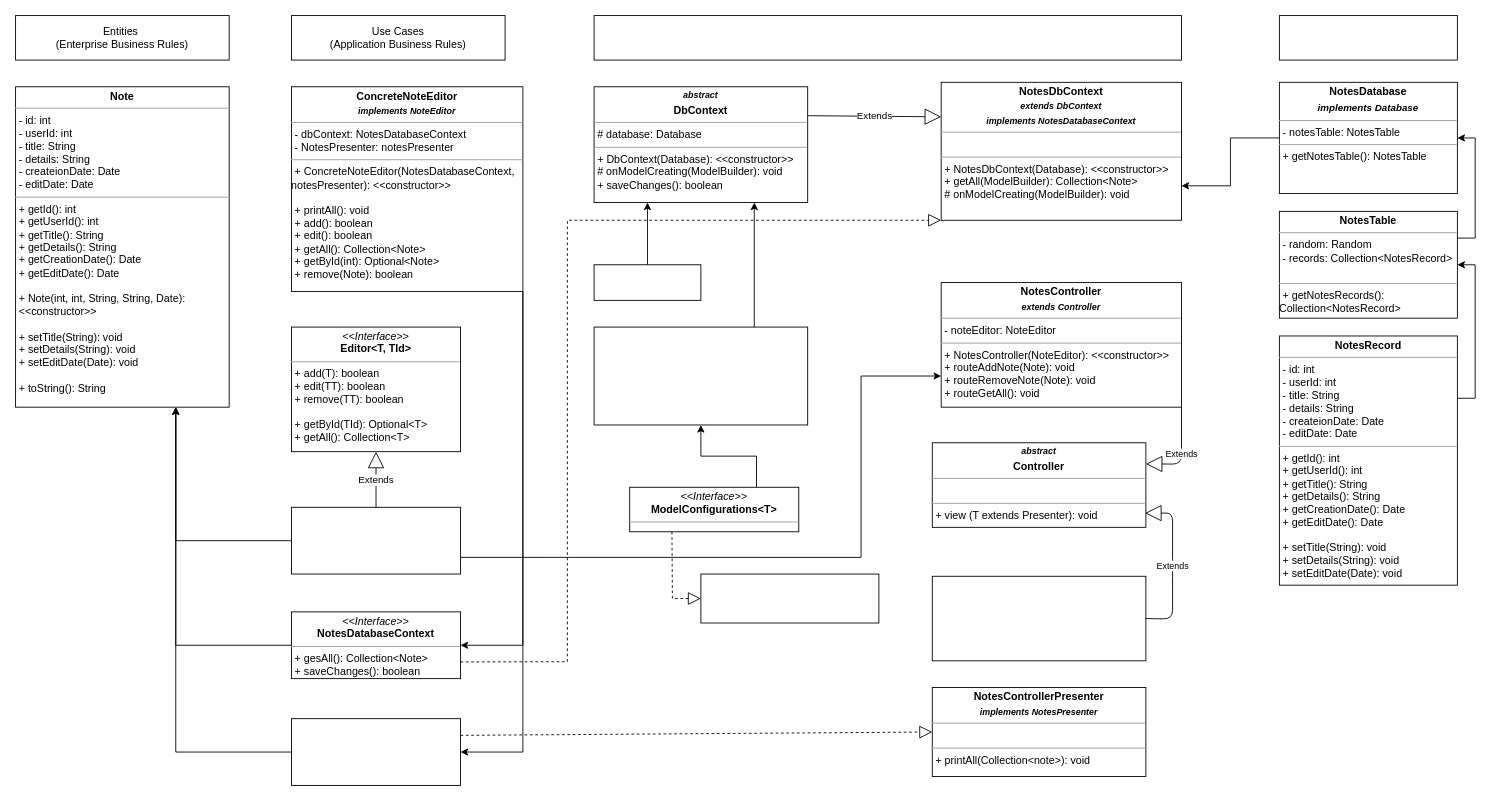
Some shapes in this 1498 by 801 pixel diagram are drawn without their labels. The shapes that lost their labels are listed below. From the top down, each one's centre as x and y in pixels, then its label:
At [887,37]: "Interface Adapters".
At [1367,37]: "Frameworks & Drivers".
At [647,282]: "<<Interface>> Database".
At [700,375]: "ModelBuilder + applyConfiguration (ModelConfiguration): ModelBuilder".
At [376,540]: "<<Interface>> NotesEditor<Note, Integer> + printAll(): void".
At [789,598]: "NoteConfiguration implements ModelConfiguration<Note>".
At [1038,618]: "<<Interface>> Presenter + view (T extends Presenter): void".
At [376,751]: "<<Interface>> NotesPresenter + printAll(): Collection<Note>".
